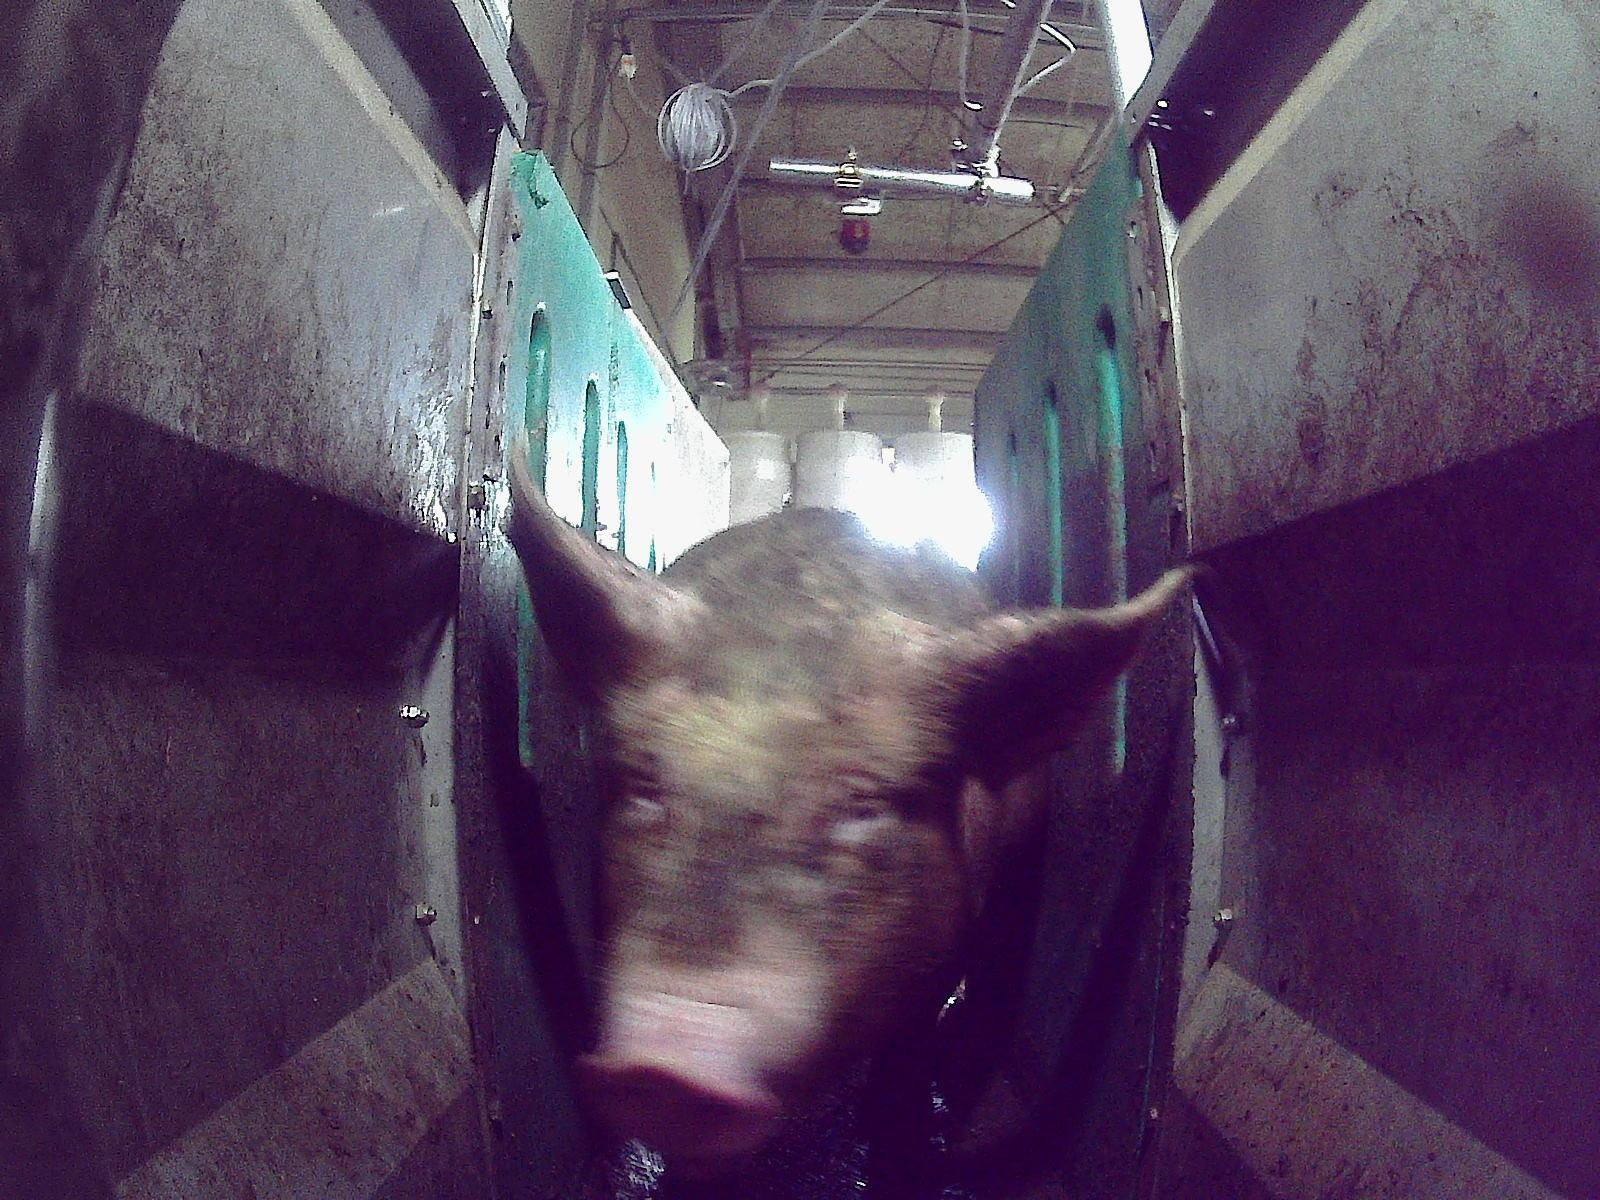Face: (575, 632, 953, 1157)
